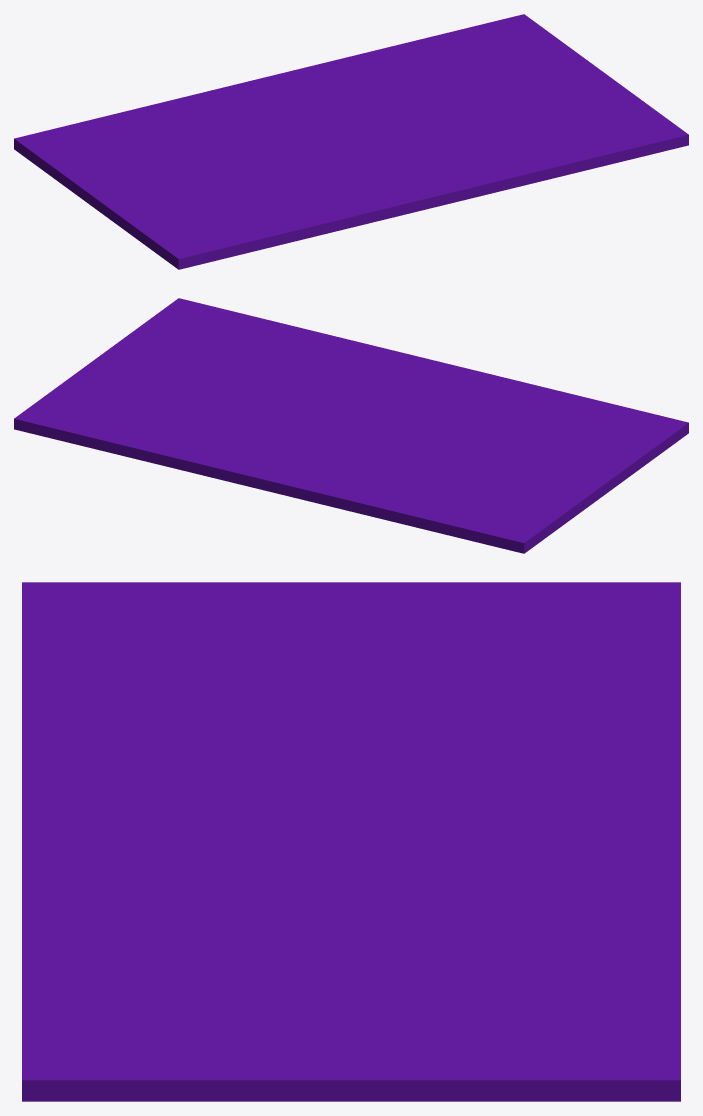
File: Exhibition_19.004_chunks.fbx
3 views of the same model, one above another, from view 1: azimuth 30°, elevation 25°; view 2: azimuth 150°, elevation 25°; view 3: azimuth 270°, elevation 25° (orthographic). The views are drawn at different scales.
Visible parts, largest first — view 1: Exhibition_19.004_3, Exhibition_19.004_2, Exhibition_19.004_0, Exhibition_19.004_1; view 2: Exhibition_19.004_3, Exhibition_19.004_0, Exhibition_19.004_2, Exhibition_19.004_1; view 3: Exhibition_19.004_3, Exhibition_19.004_0, Exhibition_19.004_2, Exhibition_19.004_1.
Part boxes in pixels (x1,y1,x2,y2): Exhibition_19.004_3: [352, 14, 688, 192]; Exhibition_19.004_2: [100, 138, 494, 269]; Exhibition_19.004_0: [14, 73, 351, 211]; Exhibition_19.004_1: [281, 33, 446, 127]; Exhibition_19.004_3: [14, 298, 378, 442]; Exhibition_19.004_0: [257, 419, 614, 553]; Exhibition_19.004_2: [355, 347, 688, 490]; Exhibition_19.004_1: [70, 425, 332, 492]; Exhibition_19.004_3: [22, 830, 680, 1101]; Exhibition_19.004_0: [320, 582, 680, 842]; Exhibition_19.004_2: [22, 582, 343, 884]; Exhibition_19.004_1: [387, 840, 680, 1004].
Bounding box in the file's own units: 642 × 12.85 × 359.
